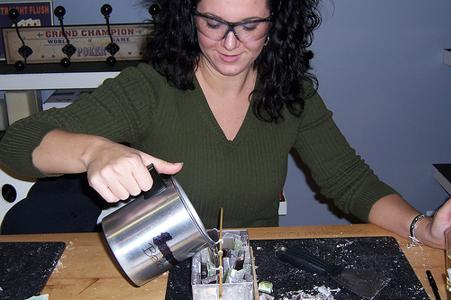person: (2, 2, 451, 250)
